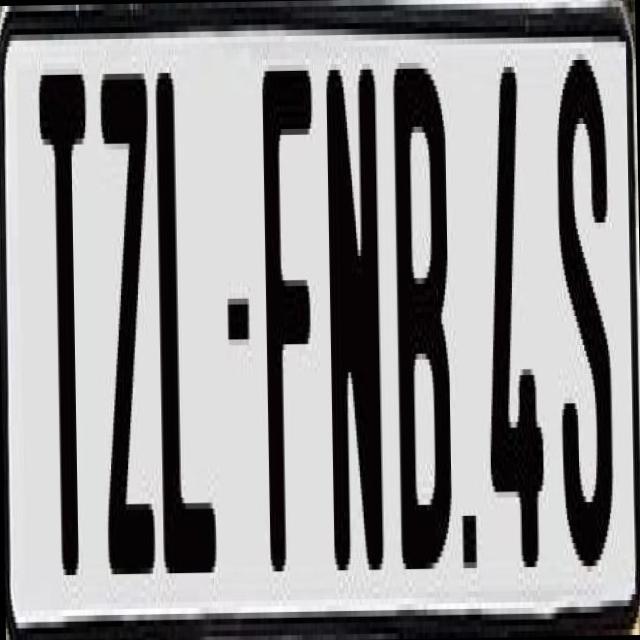4: (482, 60, 545, 573)
B: (390, 67, 452, 598)
F: (262, 58, 324, 577)
L: (153, 60, 218, 562)
N: (322, 68, 388, 570)
S: (555, 42, 614, 560)
T: (38, 74, 98, 587)
Z: (98, 55, 156, 557)
